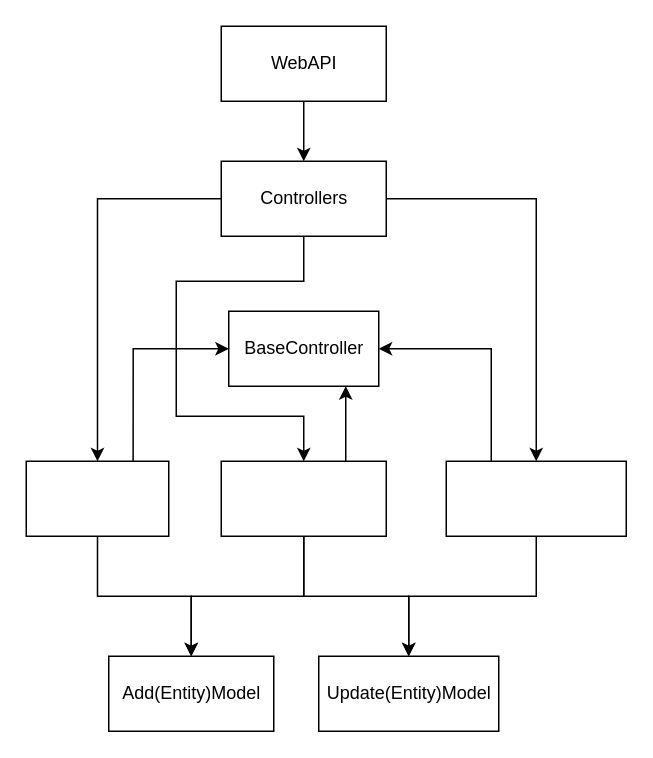
This 653x758 diagram has some shape labels left out. Each missing label, with the centre of its shape:
"CustomerController" goes at [535,498].
"HotelController" goes at [97,498].
"RoomController" goes at [303,498].
